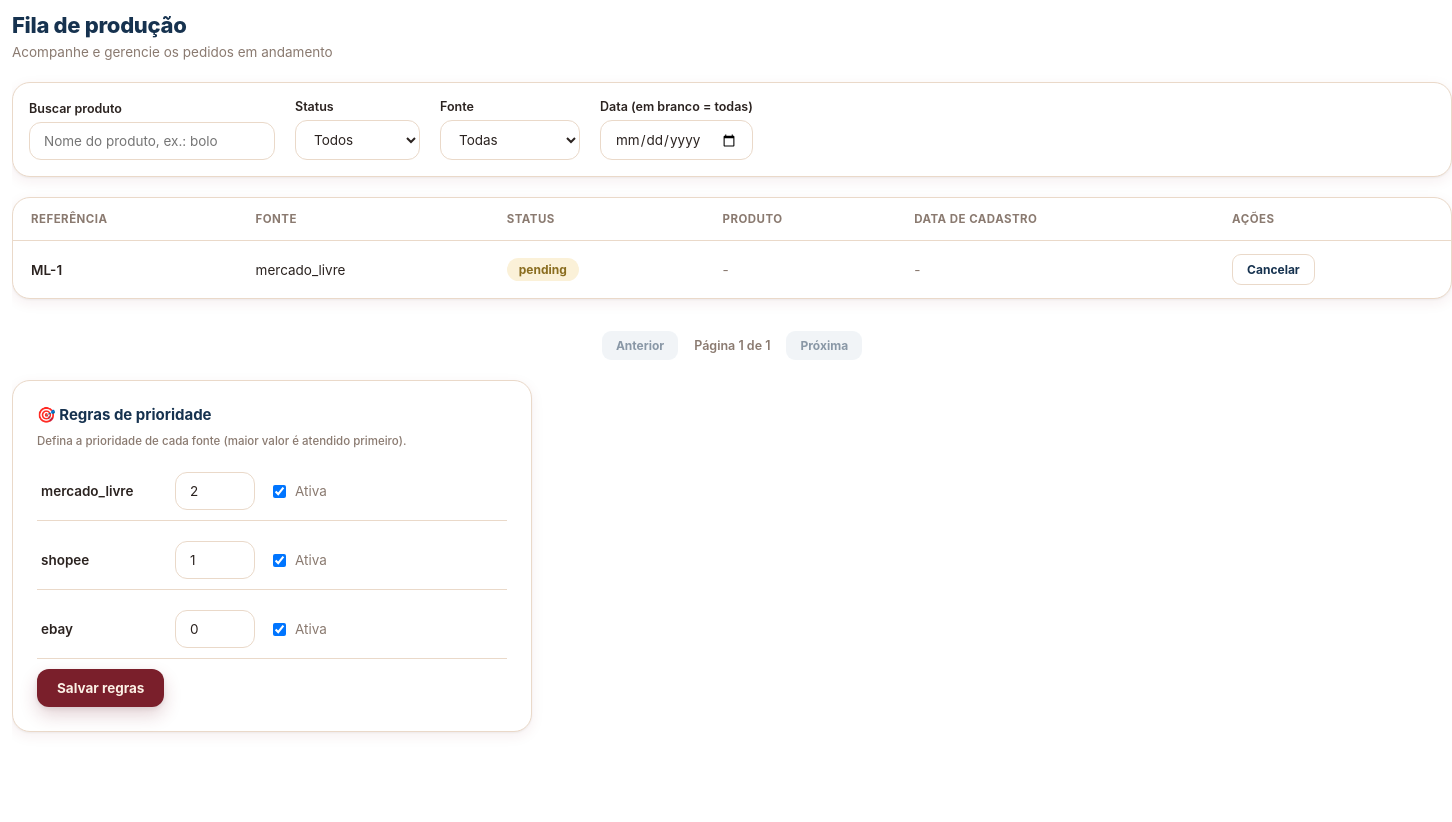
QueueManagementScreen › mostra erro inline quando cancelar falha
Click the button with test id "cancel-item-1" at (1273, 270), box [1232,254,1315,285]
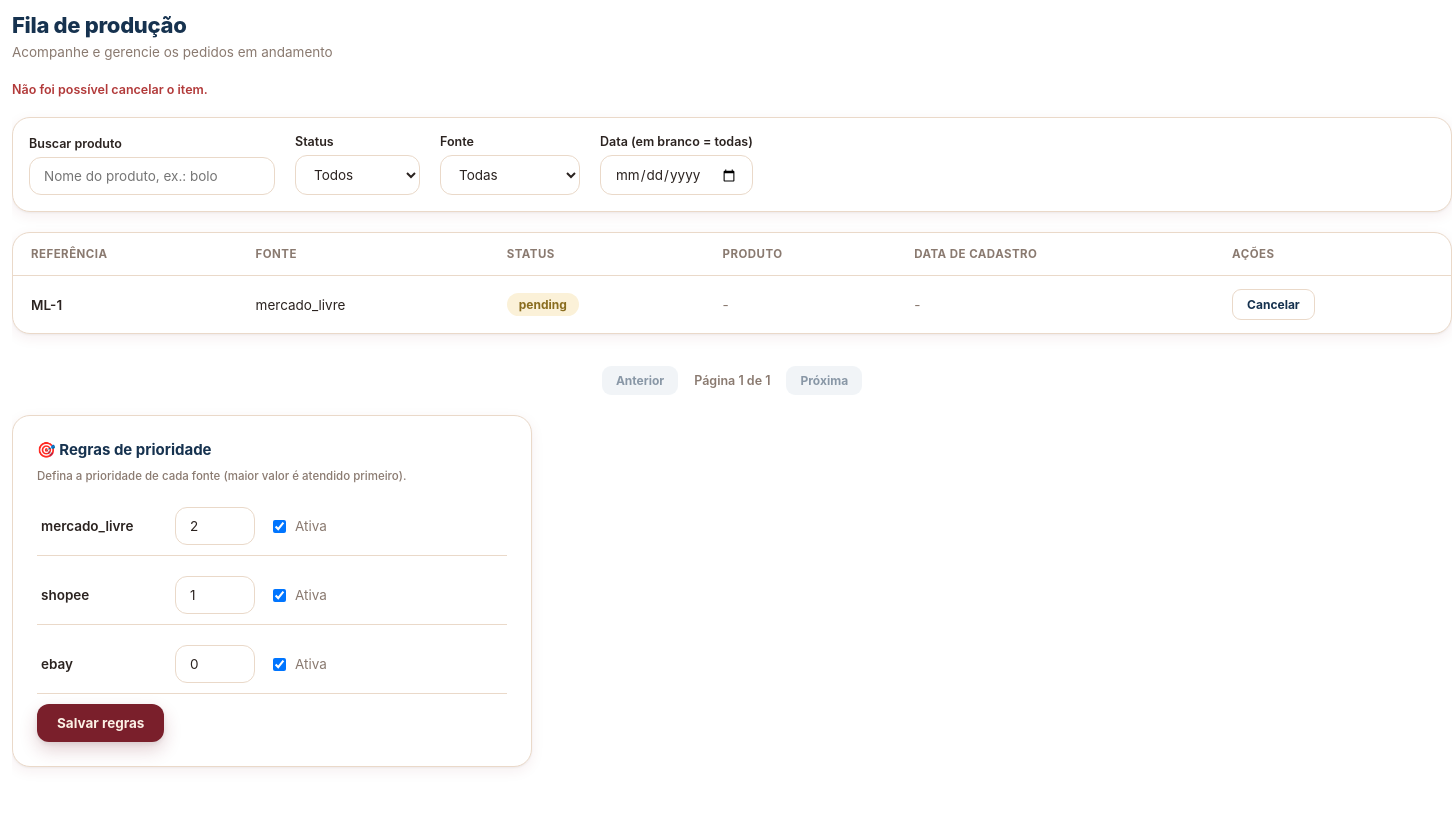
Check: the text "Não foi possível cancelar o item." is shown, box [12,82,208,97]
